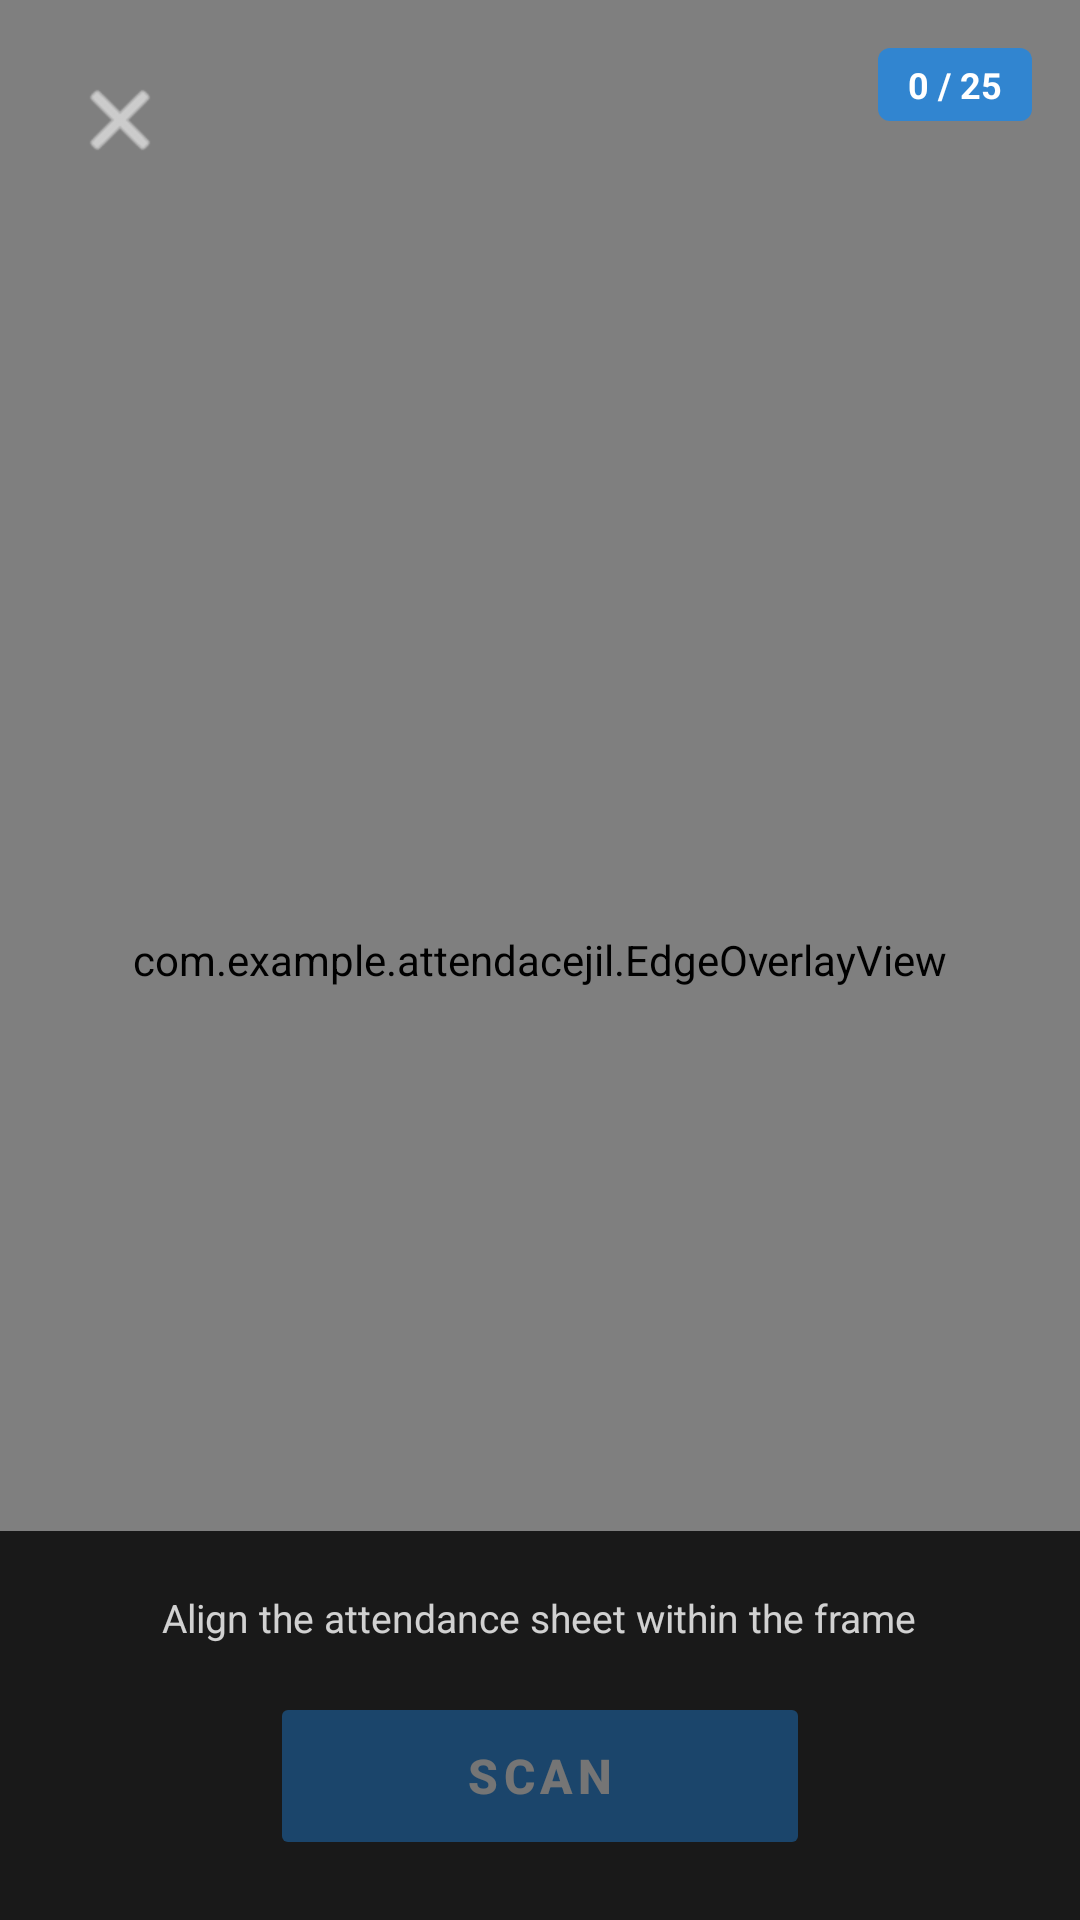

Named icons in this screenshot (1080px×1920px) and their bounding boxes, bbox=[x1, y1, x2, y2]:
Close camera: bbox=[90, 90, 150, 150]
